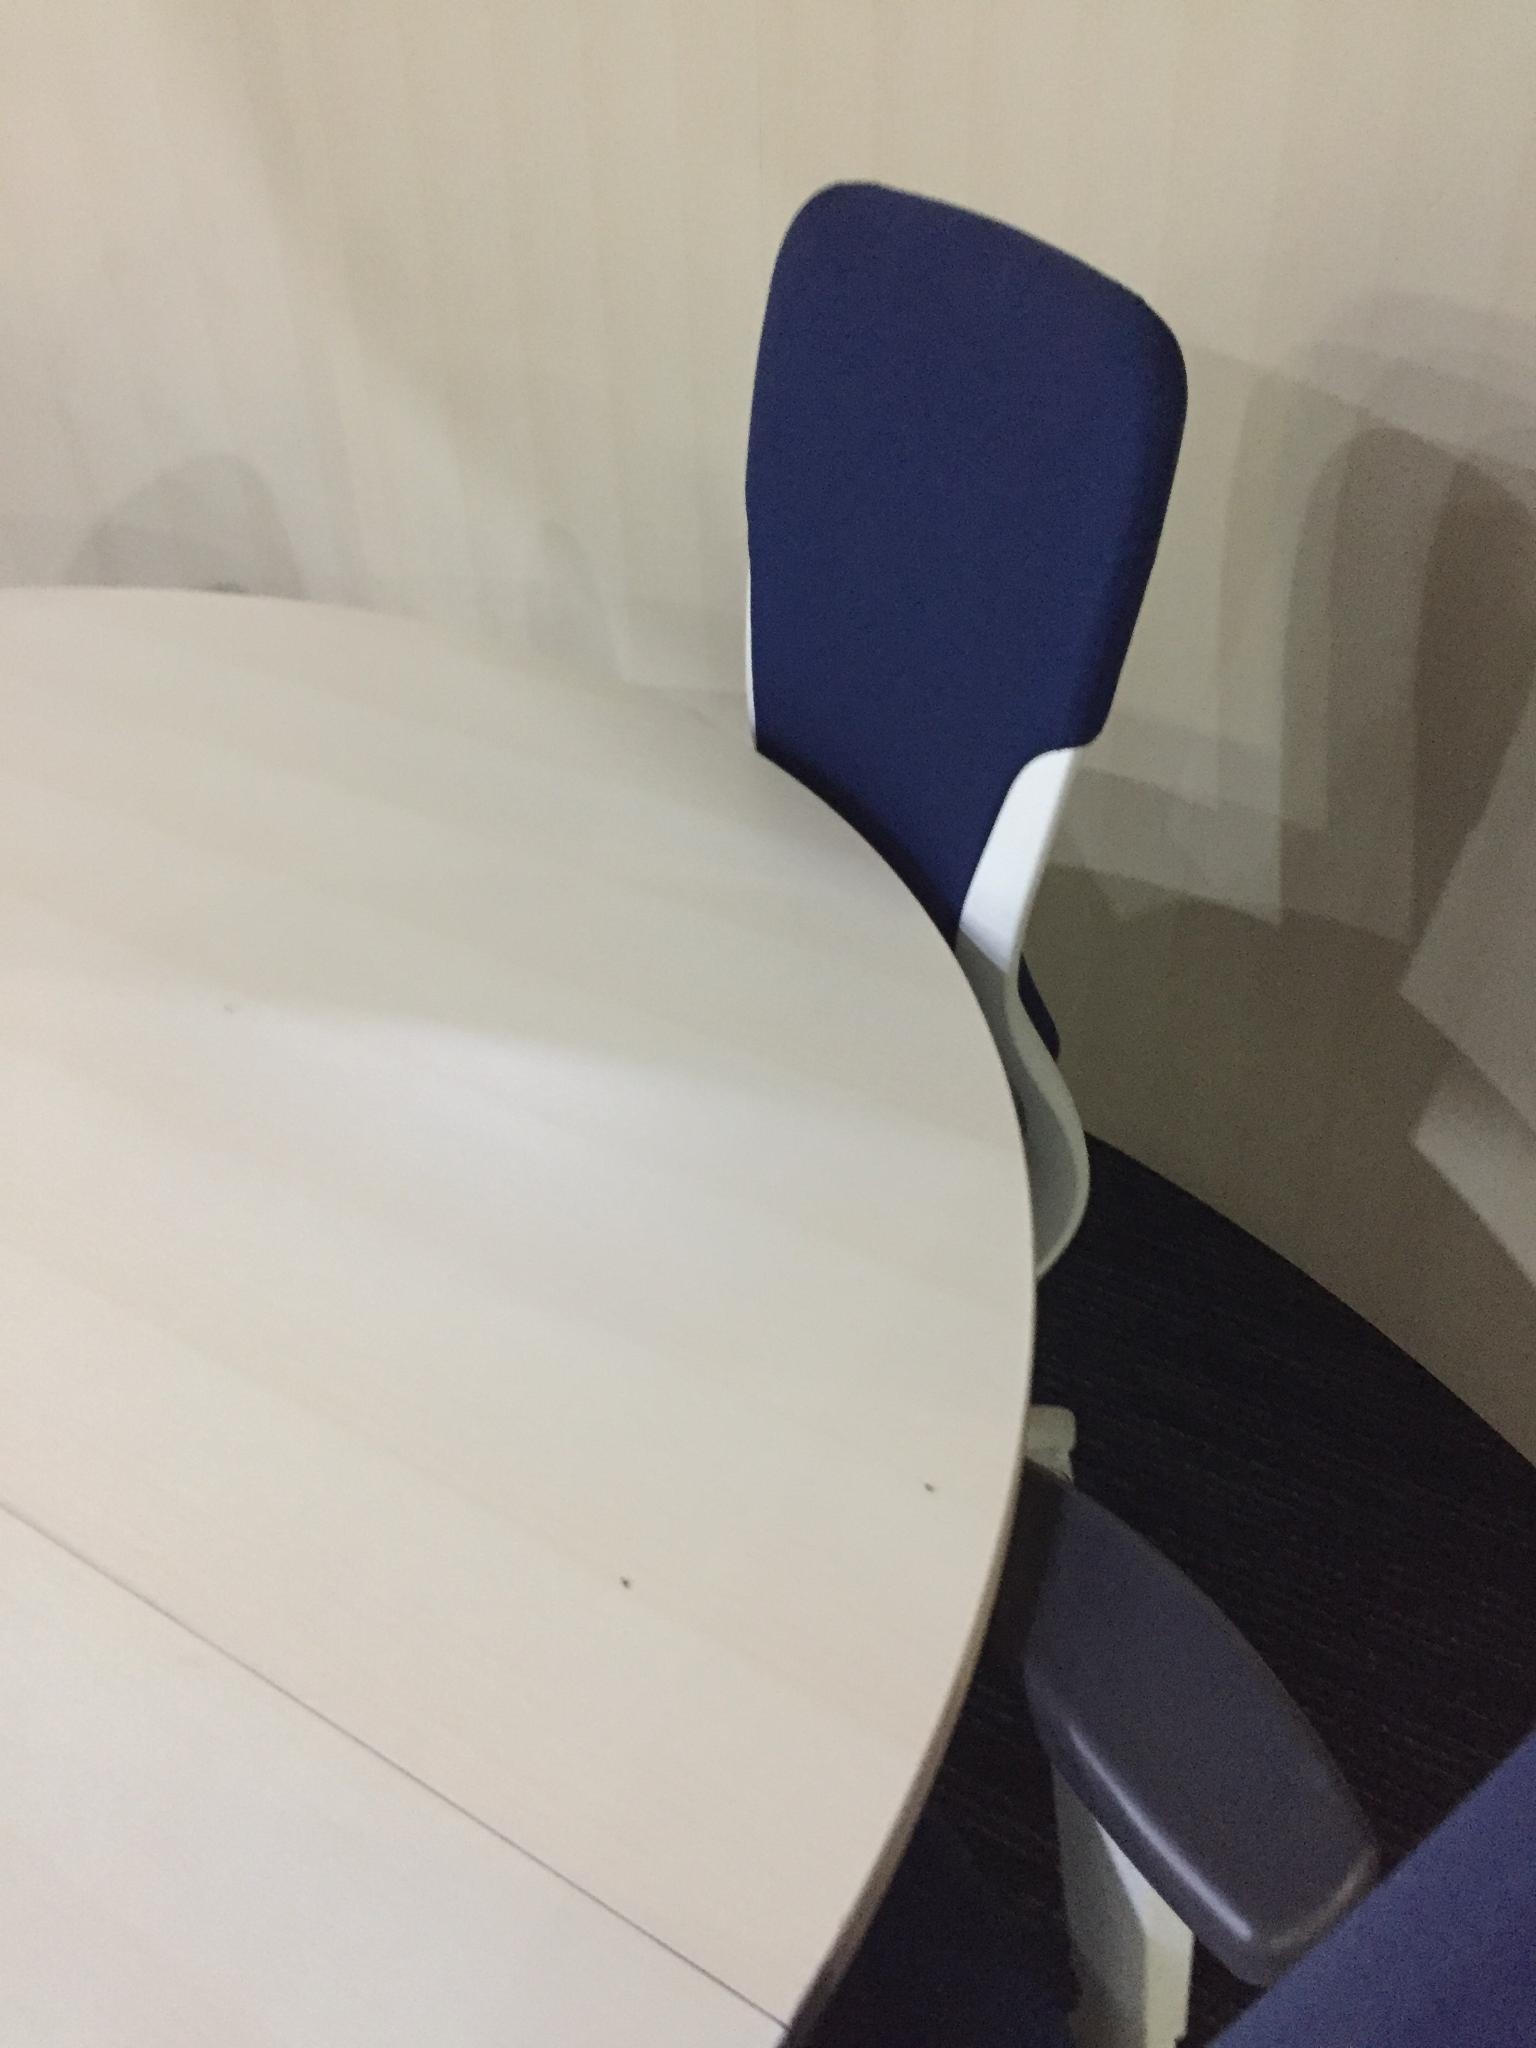chair: (2, 177, 1191, 2045)
